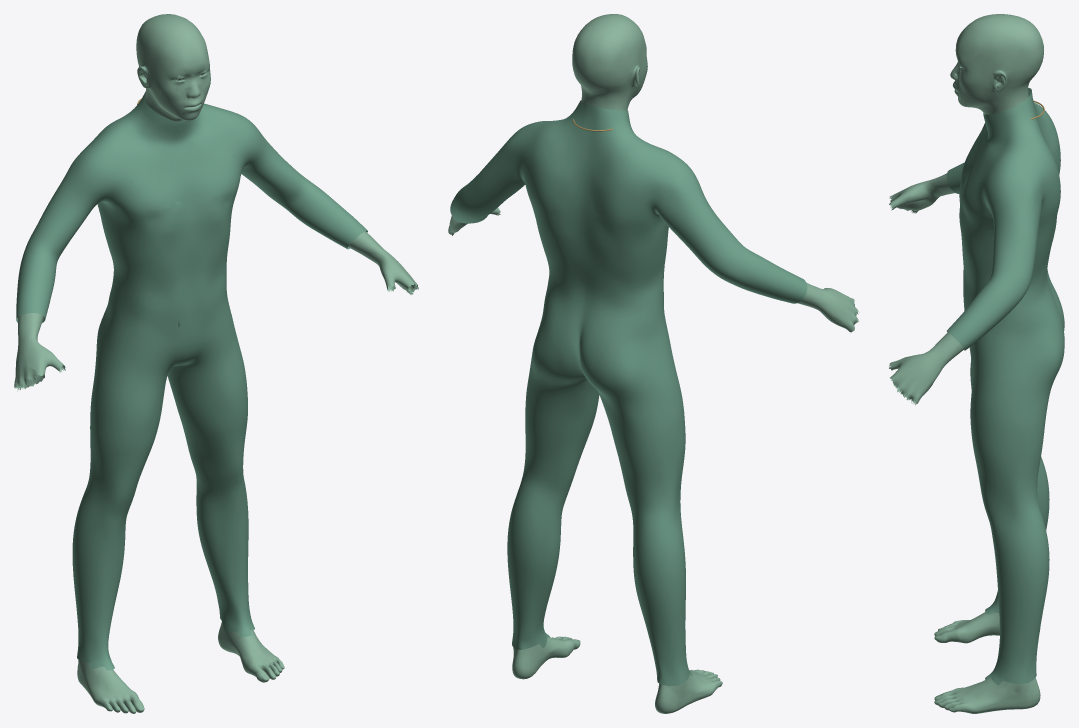
Rendered from adult-male-v1.glb.
The picture shows the model from 3 angles, left to right: view 1: azimuth 30°, elevation 25°; view 2: azimuth 150°, elevation 25°; view 3: azimuth 270°, elevation 25°; orthographic projection.
Parts seen in each view (by area): view 1: TeachingBody; view 2: TeachingBody; view 3: TeachingBody.
Part boxes in pixels (box(x1,y1,x2,y2)): TeachingBody: box(14, 14, 418, 713); TeachingBody: box(448, 14, 859, 713); TeachingBody: box(889, 14, 1064, 713).
Bounding box in the file's own units: 1.14 × 1.78 × 0.4333.
